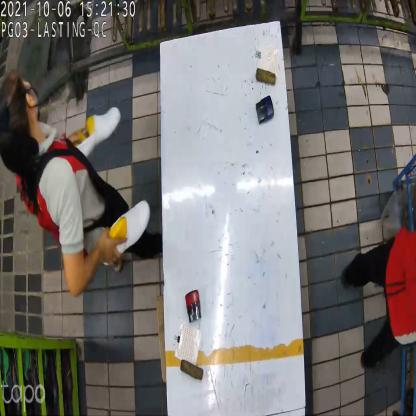shoes: (67, 106, 150, 263)
stamp: (184, 291, 203, 326), (256, 94, 274, 128)
